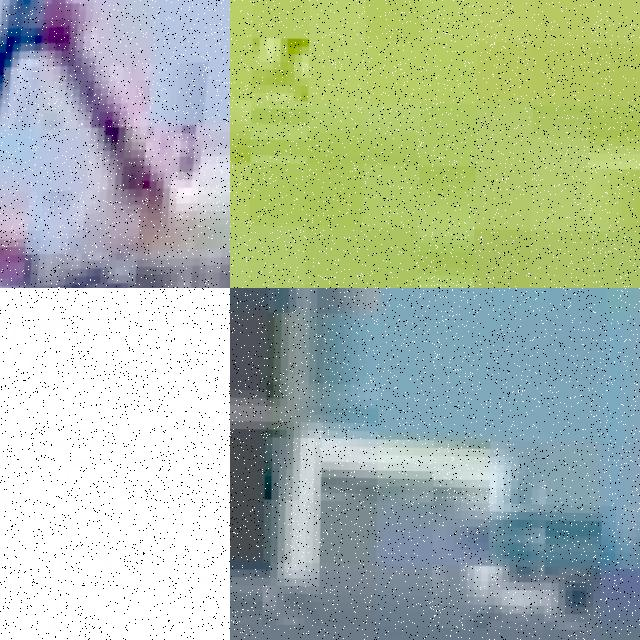0: (0, 0, 230, 288)
drone: (0, 288, 230, 640)
